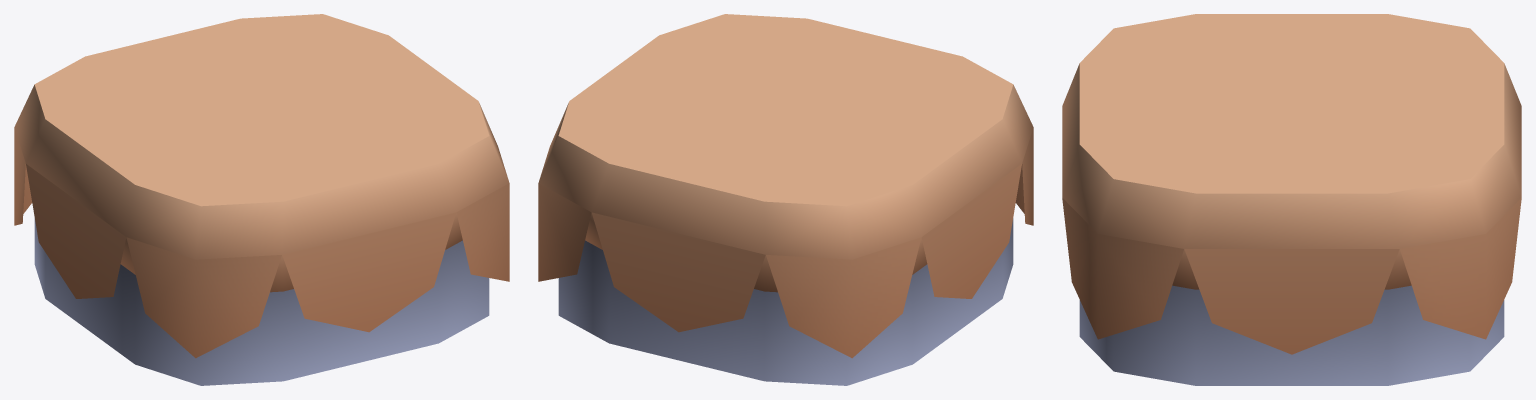
The model's file is block-grass-overhang-low.glb.
3 views of the same model, side by side, from view 1: azimuth 30°, elevation 25°; view 2: azimuth 150°, elevation 25°; view 3: azimuth 270°, elevation 25° (orthographic). The views are drawn at different scales.
Visible parts, largest first — view 1: block-grass-overhang-low; view 2: block-grass-overhang-low; view 3: block-grass-overhang-low.
Boxes of the visible parts, <box> form: block-grass-overhang-low: <box>14,14,509,385</box>; block-grass-overhang-low: <box>538,14,1033,385</box>; block-grass-overhang-low: <box>1062,14,1521,385</box>.
Bounding box in the file's own units: 1.08 × 0.5 × 1.08.
